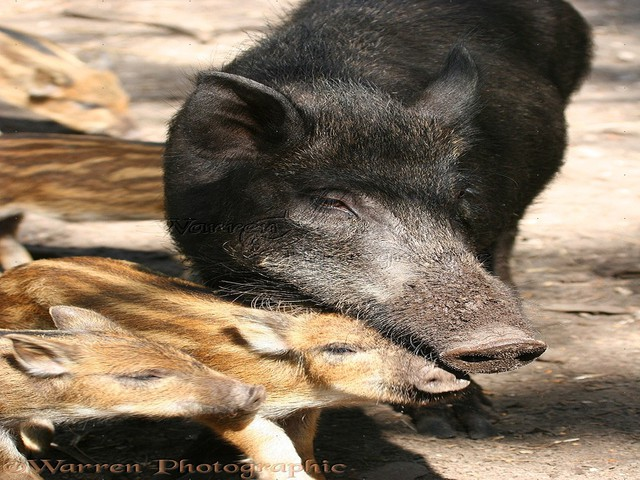Pig: (178, 1, 576, 372), (2, 313, 297, 480)
